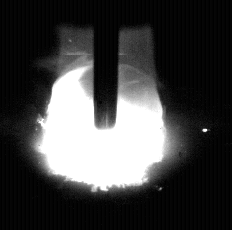arame: (94, 0, 119, 128)
poca: (41, 0, 166, 230)
